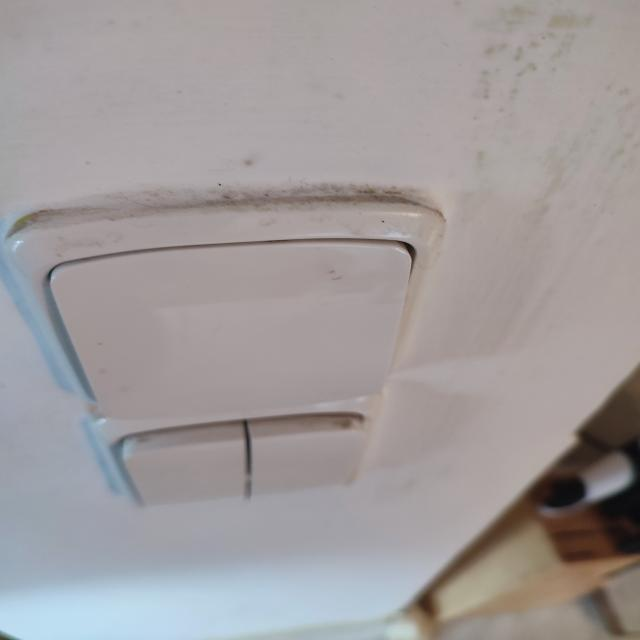house switch: (13, 226, 426, 418)
house switch double: (98, 406, 373, 506)
